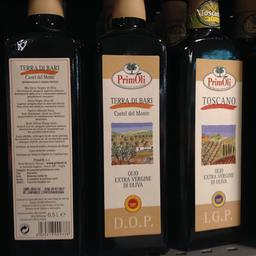oil: (1, 2, 89, 252), (90, 0, 172, 255), (170, 1, 244, 250)
